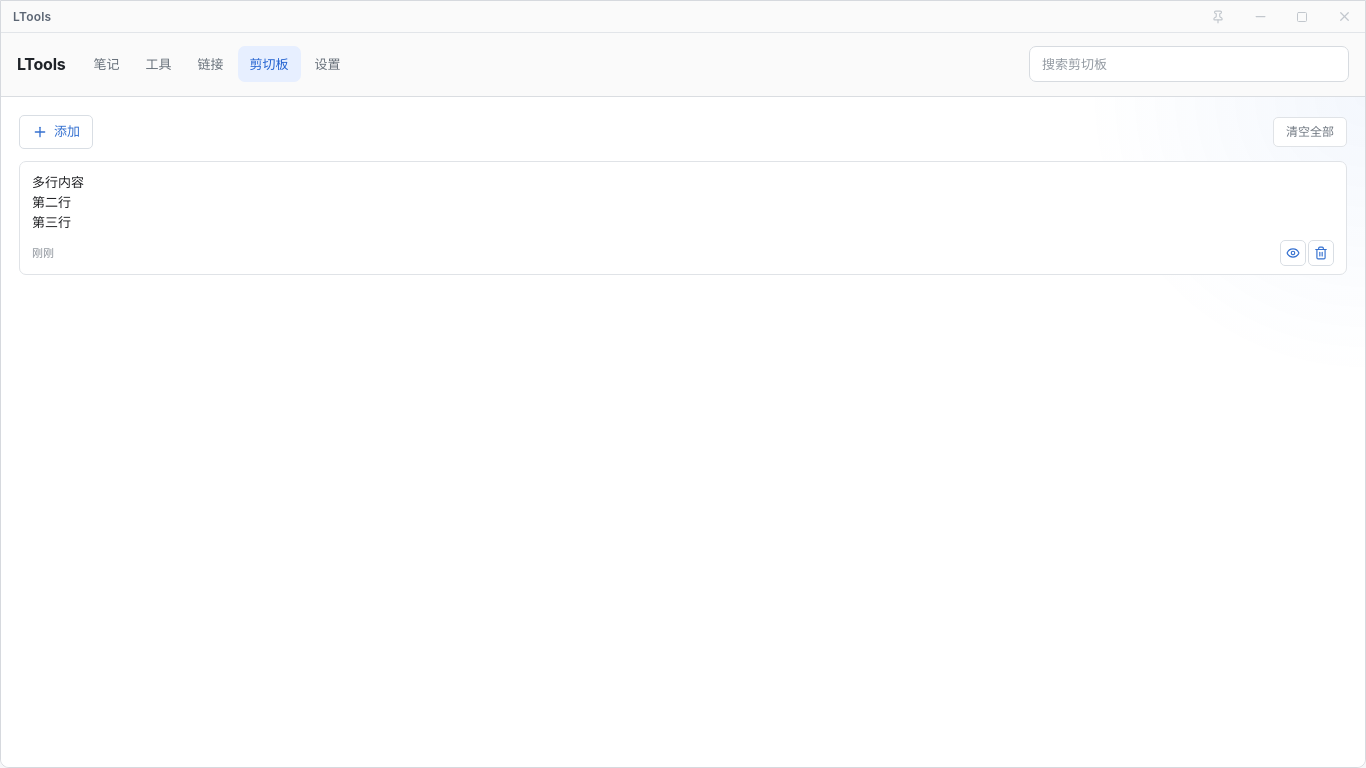
Scenario: ClipboardPage interactions › opens the detail dialog and copies the full text from it
Check: the text "多行内容 第二行 第三行" is shown, box [32,174,84,230]
Click the button named "查看详情" at (1293,253), box [1280,240,1306,266]
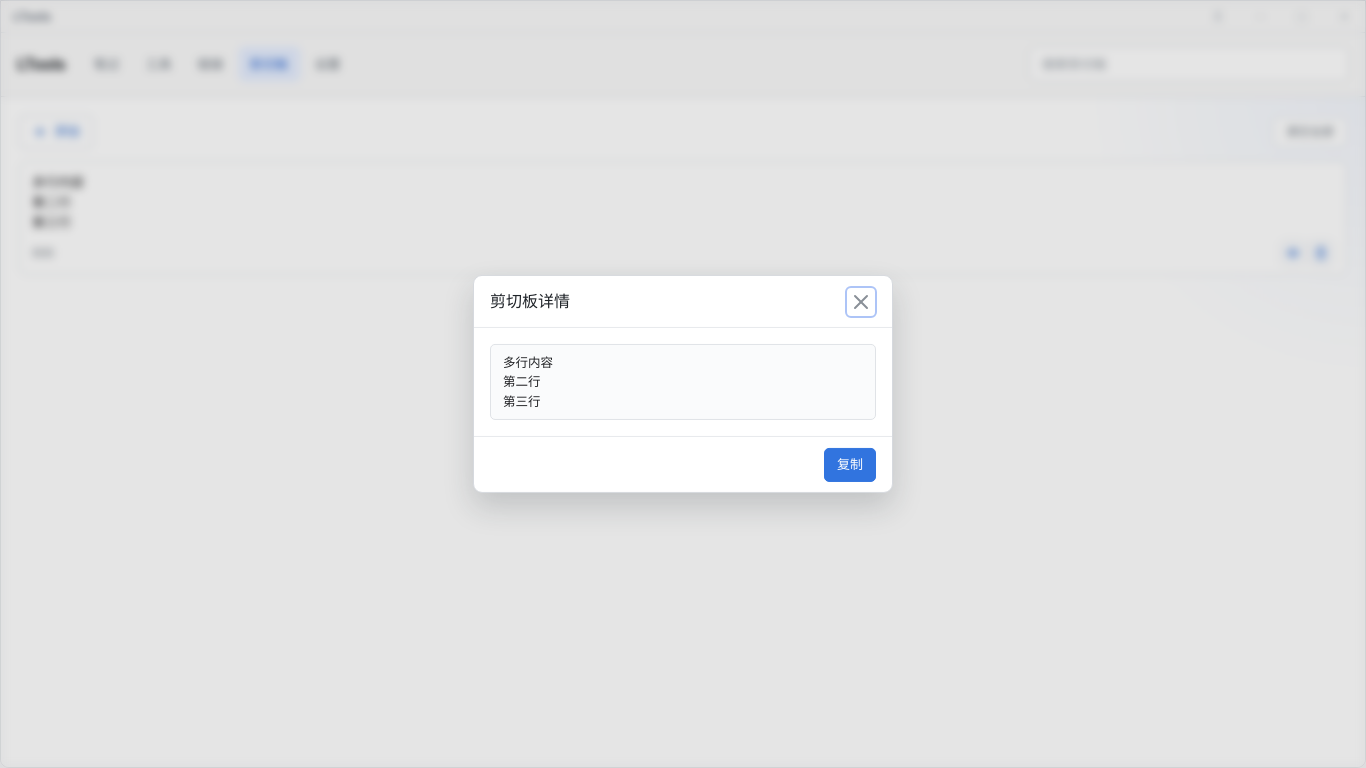
Check: the text "多行内容 第二行 第三行" is shown, box [490,344,876,420]
Click the button "复制" at (850,465), box [824,448,876,482]
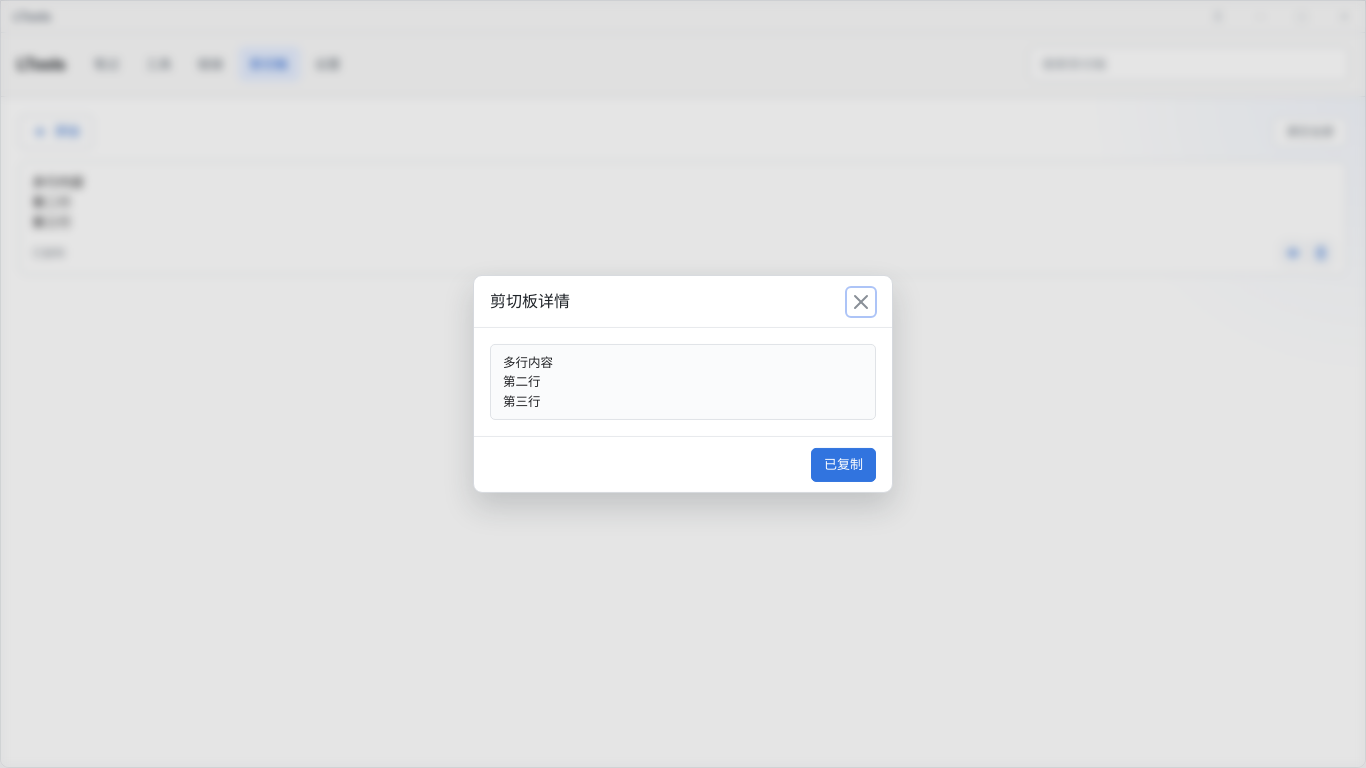
Check: the button "已复制" is shown, box [811,448,876,482]
Click the button named "关闭" at (861,301), box [846,286,876,316]
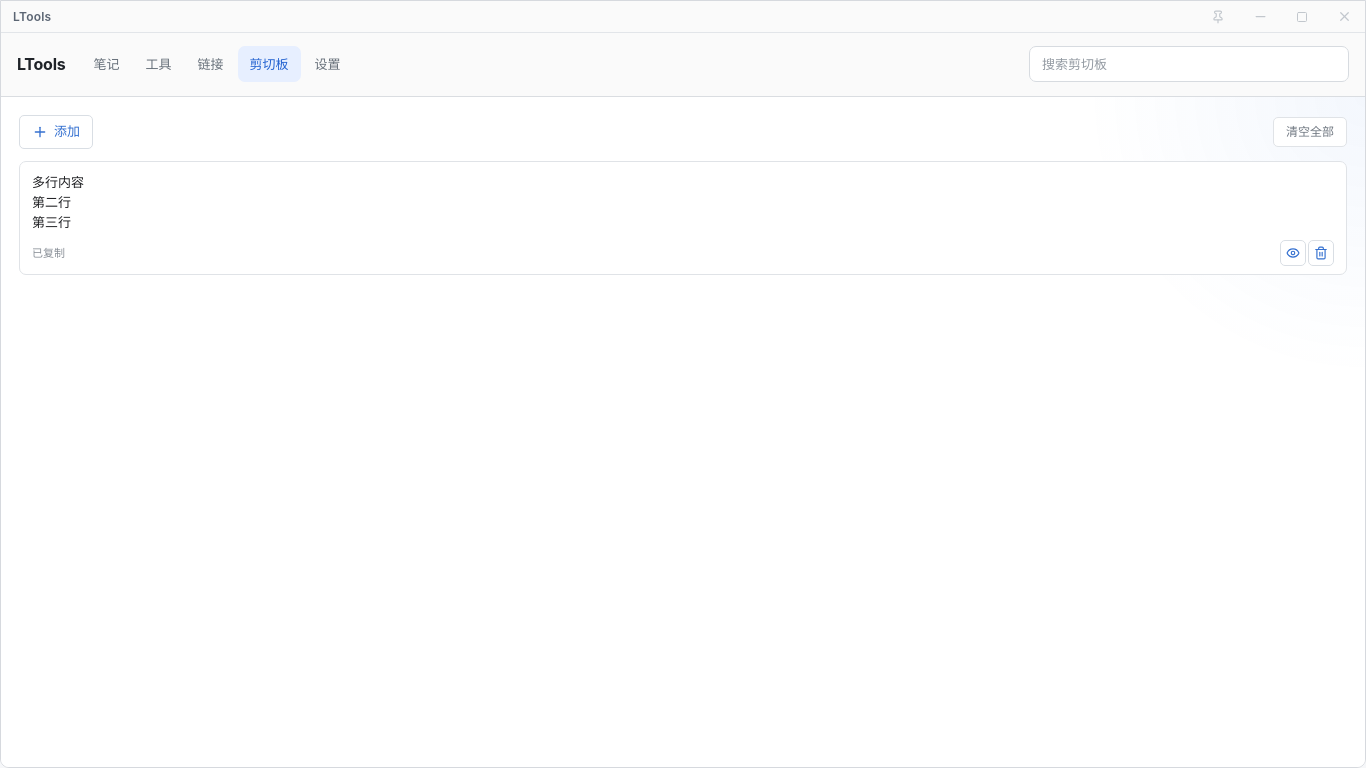
Check: the dialog is gone
